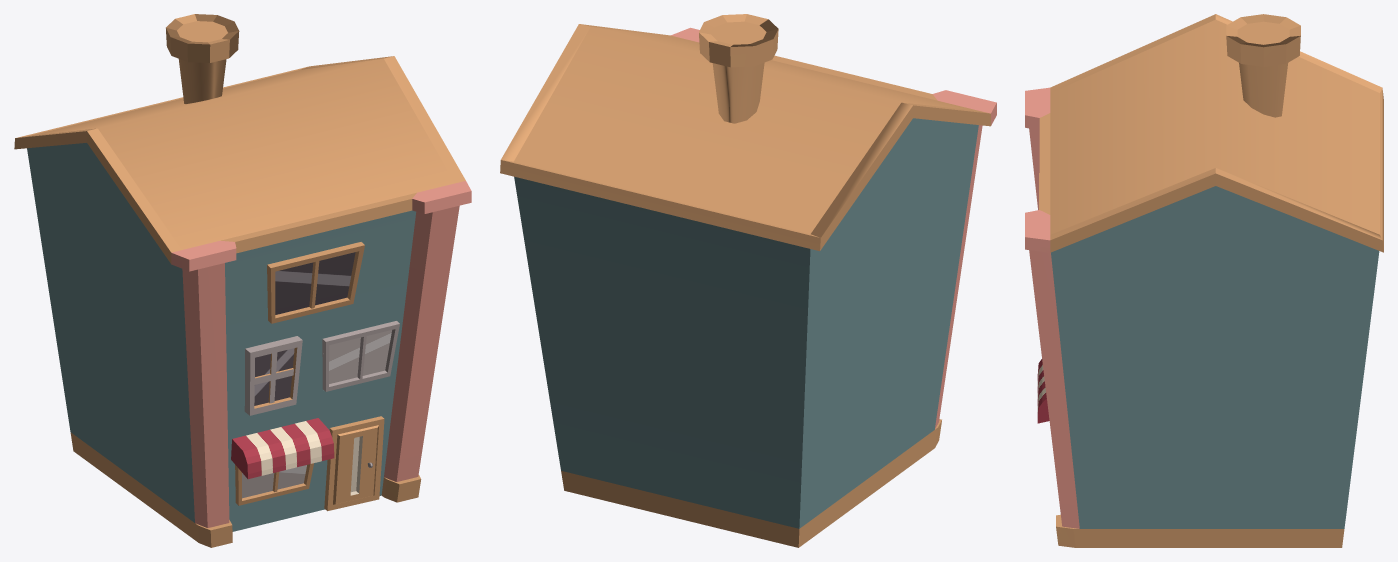
The model's file is House5.FBX.
The picture shows the model from 3 angles, left to right: view 1: azimuth 30°, elevation 25°; view 2: azimuth 150°, elevation 25°; view 3: azimuth 270°, elevation 25°; orthographic projection. The views are drawn at different scales.
Visible parts, largest first — view 1: House007; view 2: House007; view 3: House007.
Part boxes in pixels (<box>): House007: <box>14,14,471,547</box>; House007: <box>500,14,996,547</box>; House007: <box>1025,14,1383,547</box>.
Bounding box in the file's own units: 294 × 280 × 390.
